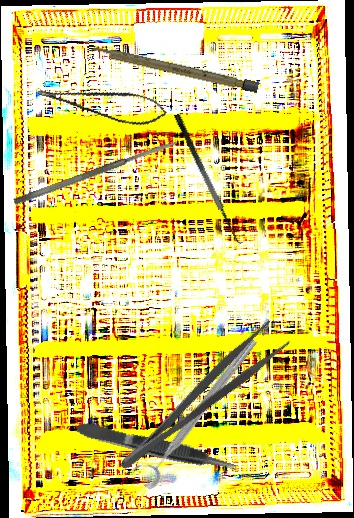Dressing Forceps: (105, 317, 293, 475)
Fixation Ring: (128, 328, 262, 492)
Micro Scissor: (36, 66, 170, 135)
Scalpel Handle: (89, 43, 260, 94)
Spatula Surgical: (12, 138, 179, 207), (172, 108, 250, 248)
Tissue Forceps: (75, 415, 240, 479)
